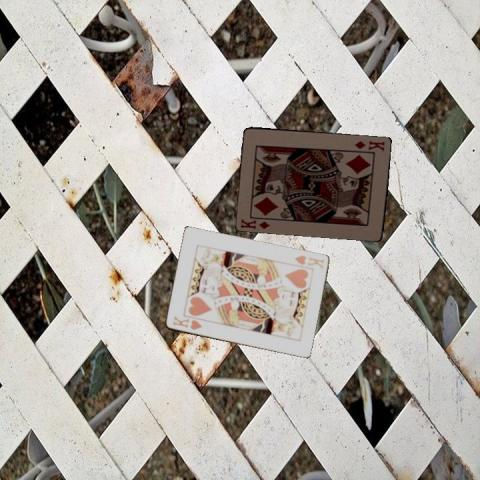Kd: (351, 137, 386, 152), (238, 216, 271, 231)
Kh: (170, 314, 203, 332), (291, 253, 325, 270)
